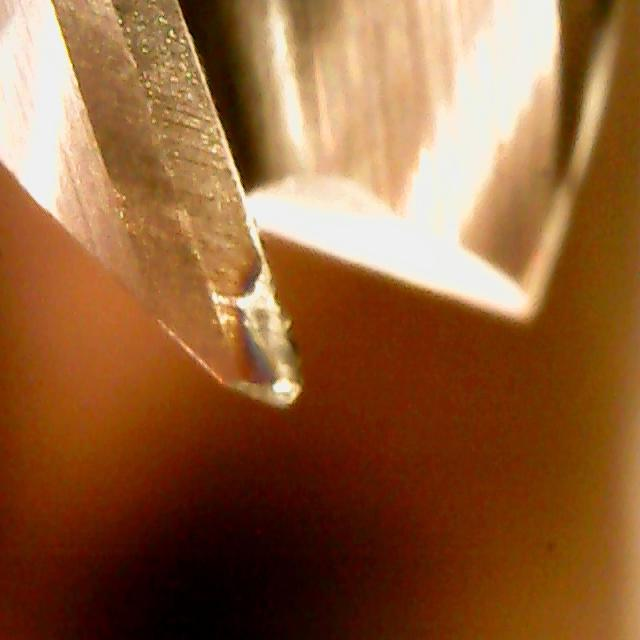Tool-wear-class-1: (128, 85, 308, 419)
